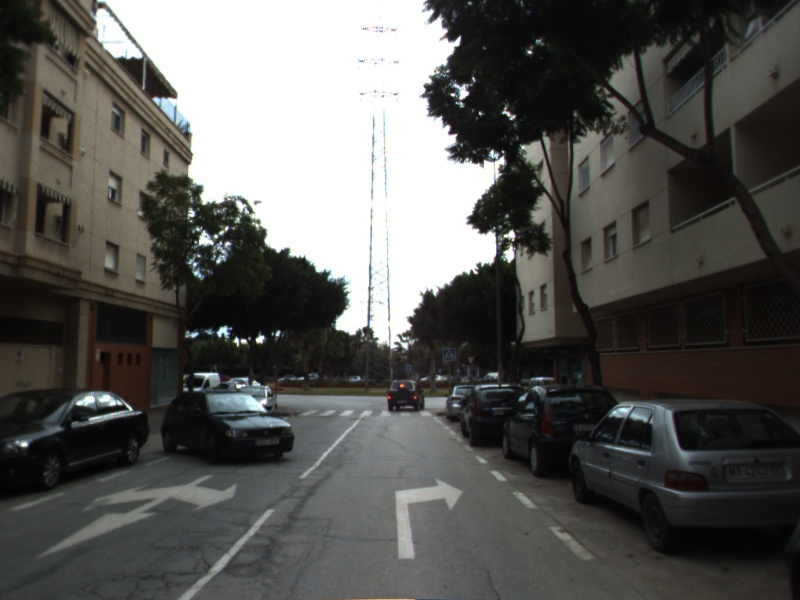RIGHT: (393, 475, 466, 561)
